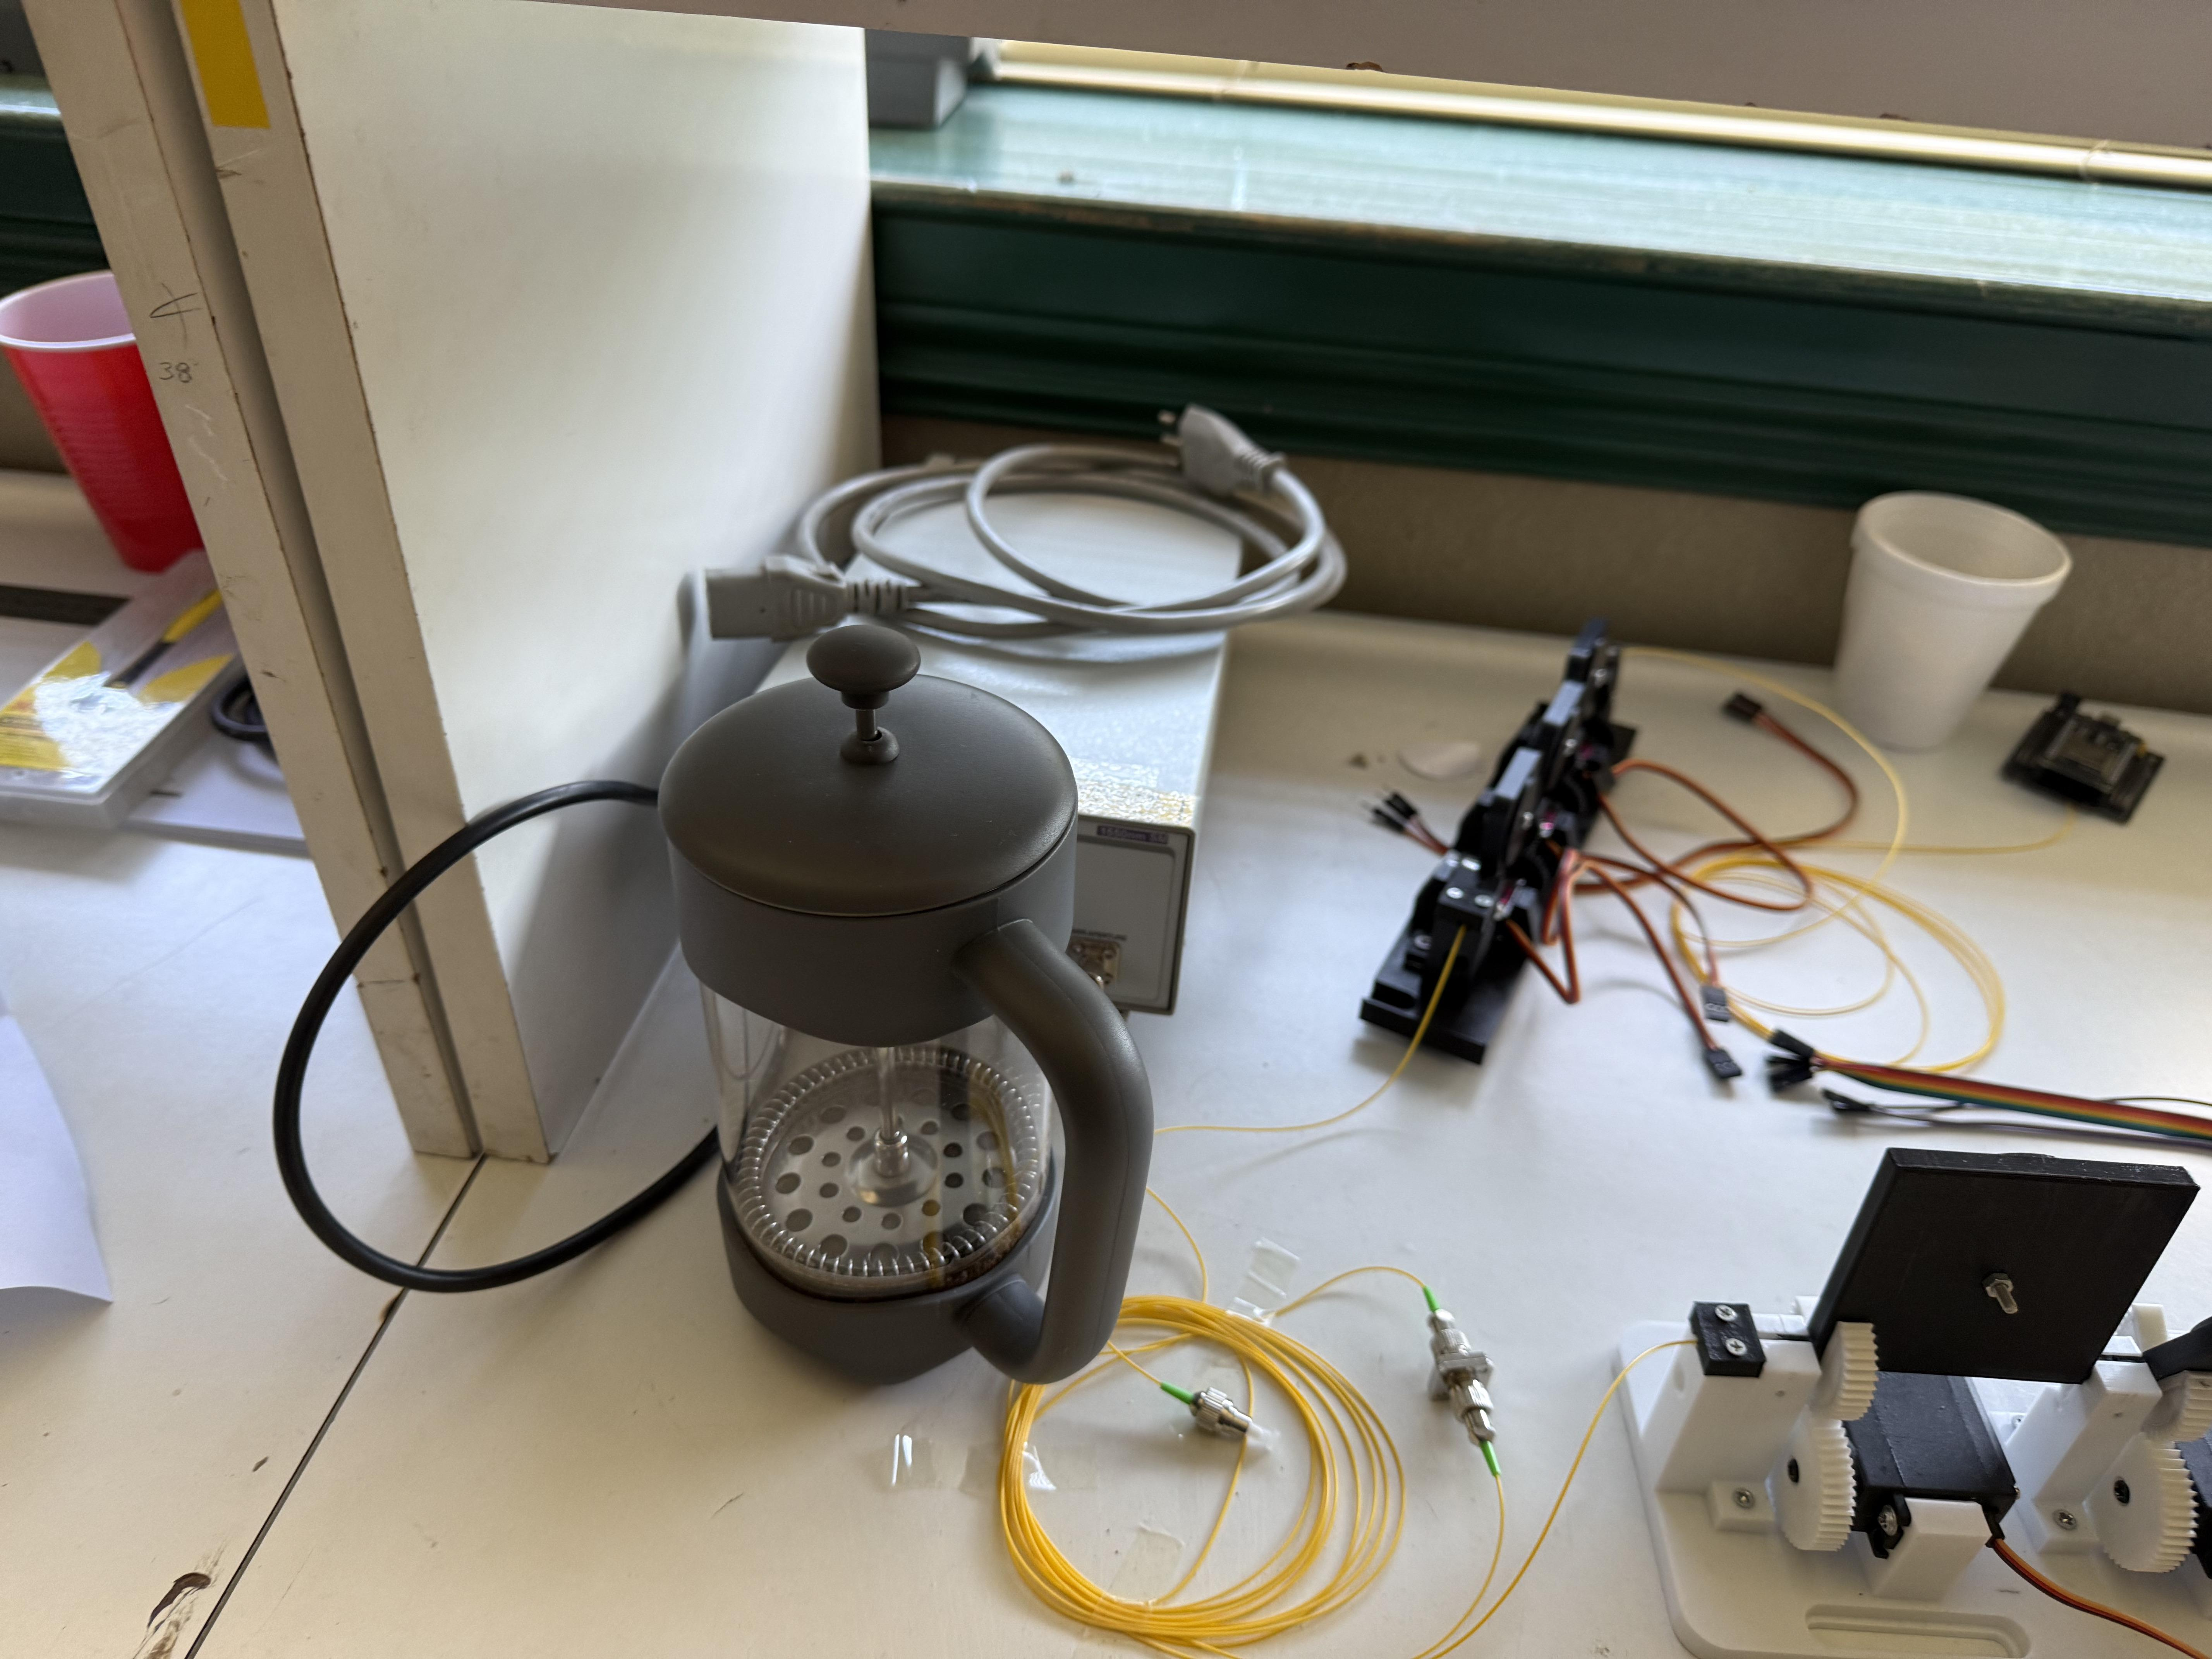laser: (641, 436, 1273, 1051)
paddle_polarization_controller: (1578, 1080, 2212, 1659), (1329, 629, 1676, 1093)
